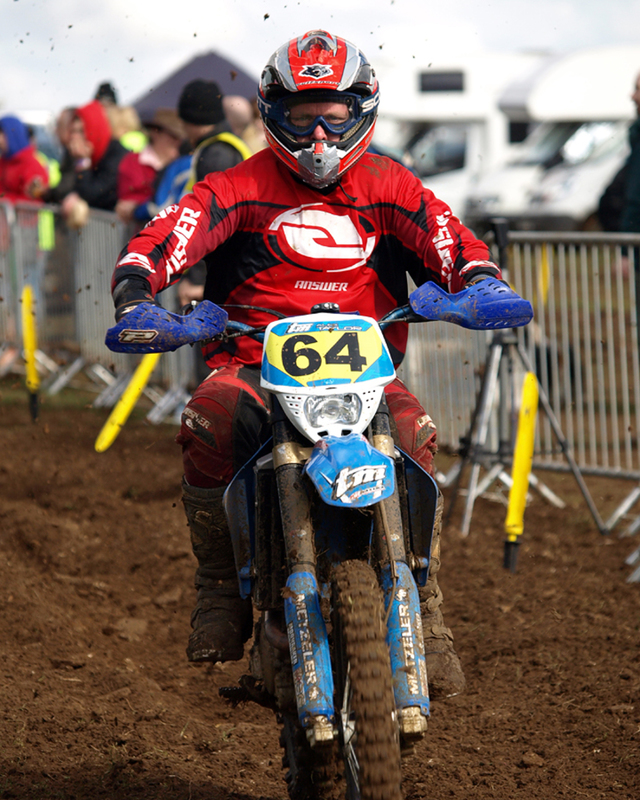helmet: (250, 29, 387, 173)
